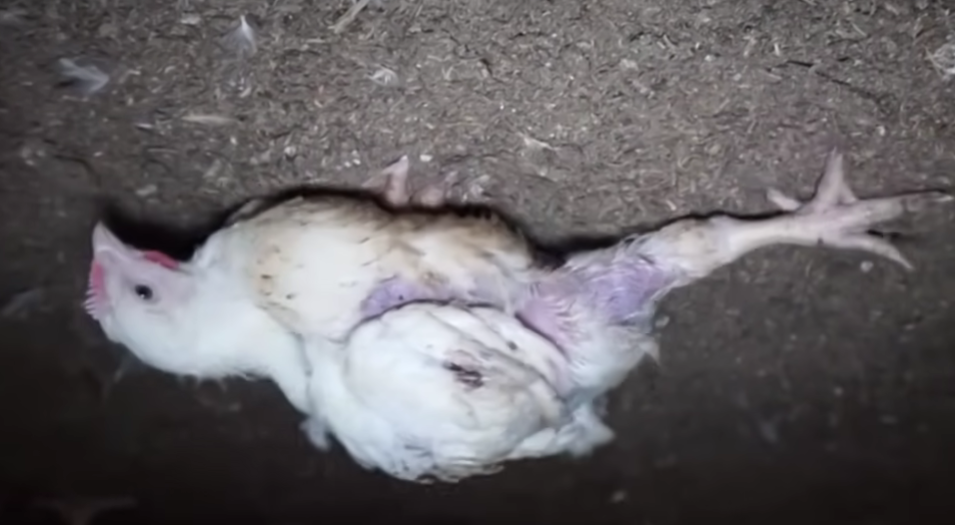Unhealthy: (64, 132, 941, 473)
